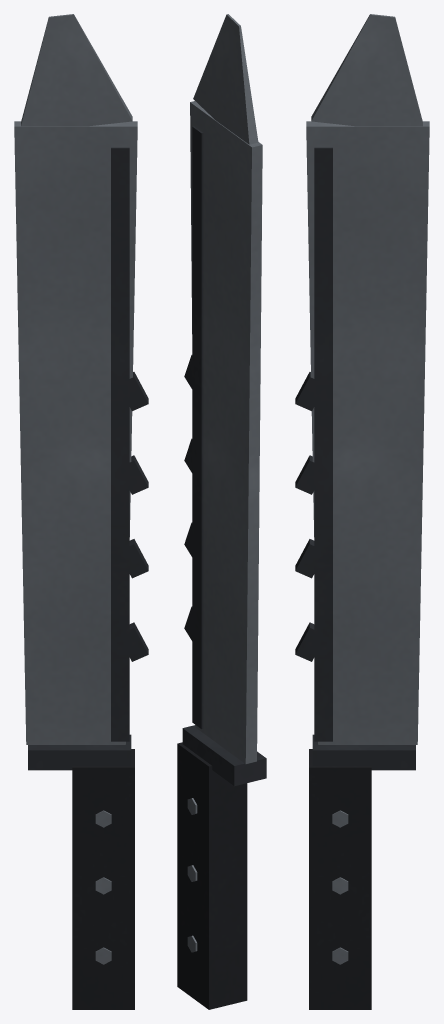
Rendered from weapon_machete.glb.
The picture shows the model from 3 angles, left to right: view 1: azimuth 90°, elevation 25°; view 2: azimuth 210°, elevation 25°; view 3: azimuth 270°, elevation 25°; orthographic projection.
Visible parts, largest first — view 1: Weapon_Machete; view 2: Weapon_Machete; view 3: Weapon_Machete.
Boxes of the visible parts, box(x1,y1,x2,y2) form: Weapon_Machete: box(14, 14, 148, 1009); Weapon_Machete: box(177, 14, 266, 1009); Weapon_Machete: box(295, 14, 429, 1009).
Bounding box in the file's own units: 0.026 × 0.5901 × 0.0729.
Materials: 3 (3 with a texture image).
